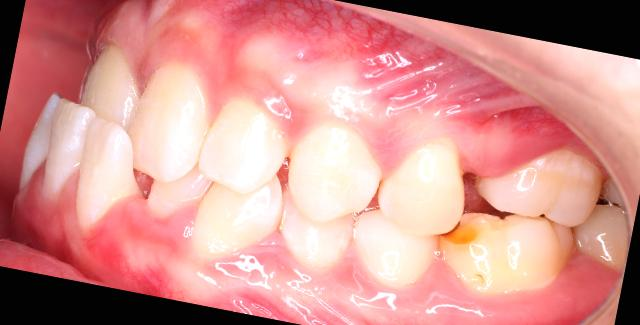canine class II 1/2: (265, 104, 456, 296)
molar class III 1/2: (428, 119, 619, 325)
